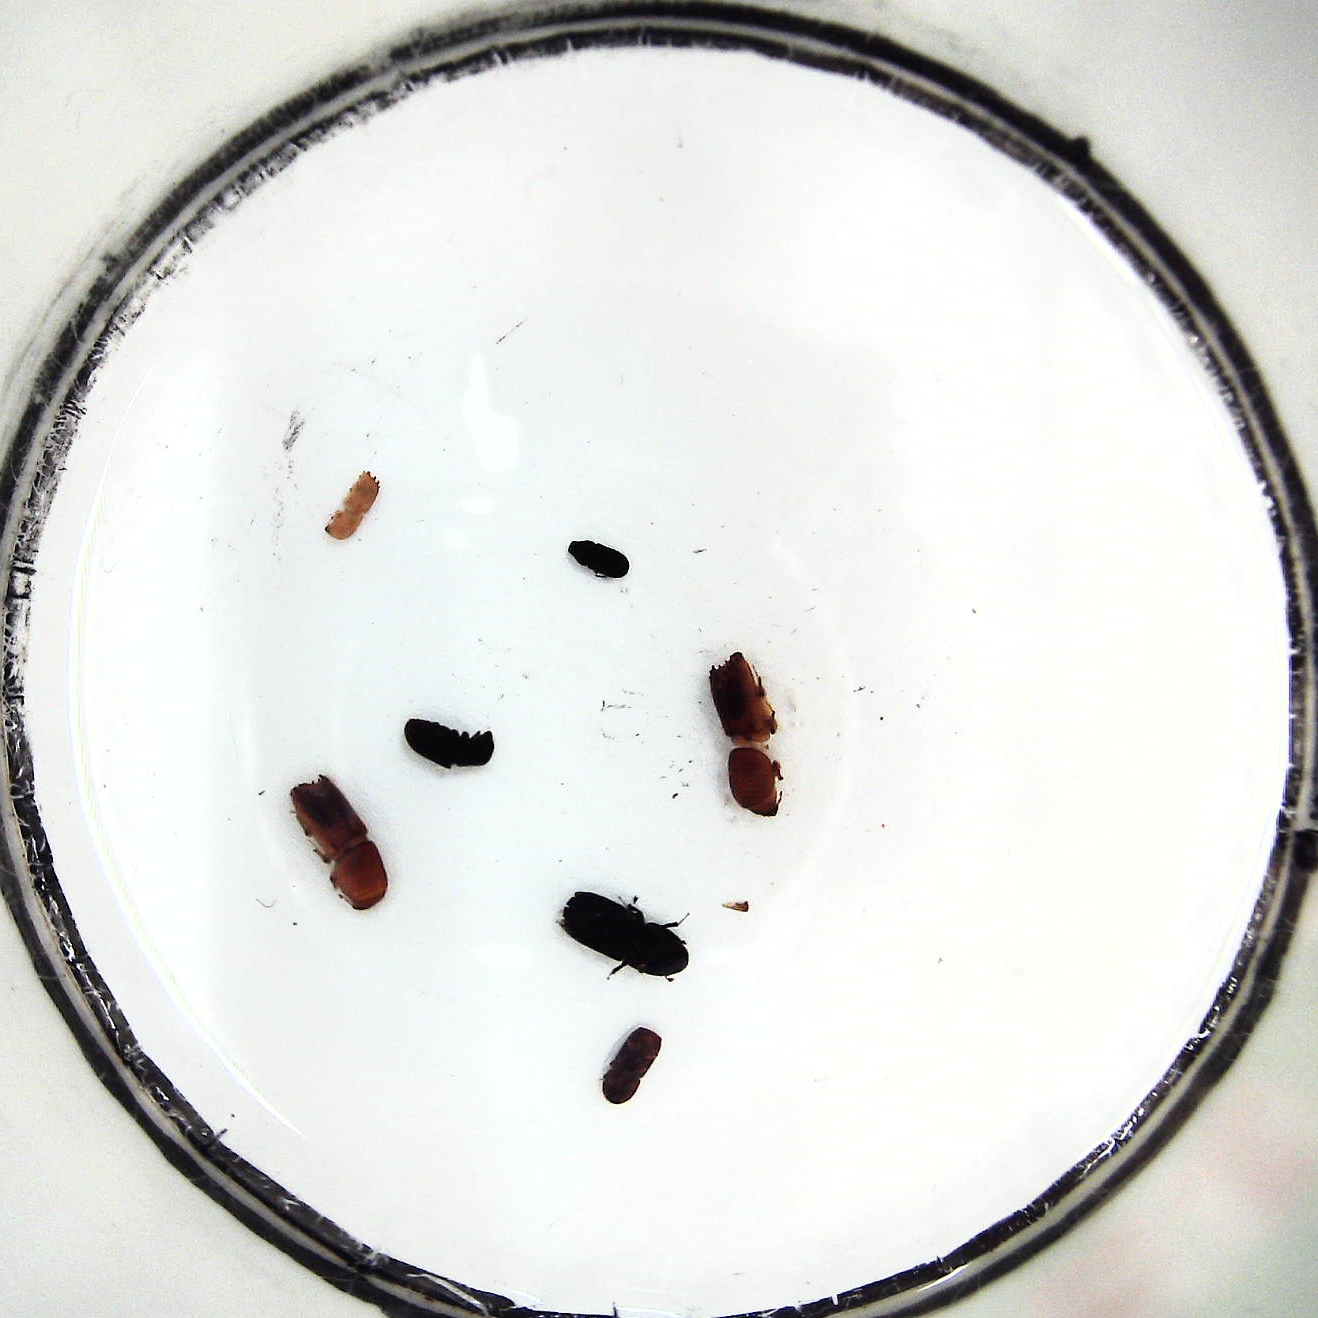Boerner: (288, 772, 393, 915), (708, 651, 786, 822), (556, 891, 692, 984)
Linnaeus: (597, 1024, 661, 1106)
acuminatus: (323, 470, 381, 543)
armandi: (404, 715, 494, 771)
coleoptera: (567, 535, 631, 584)
